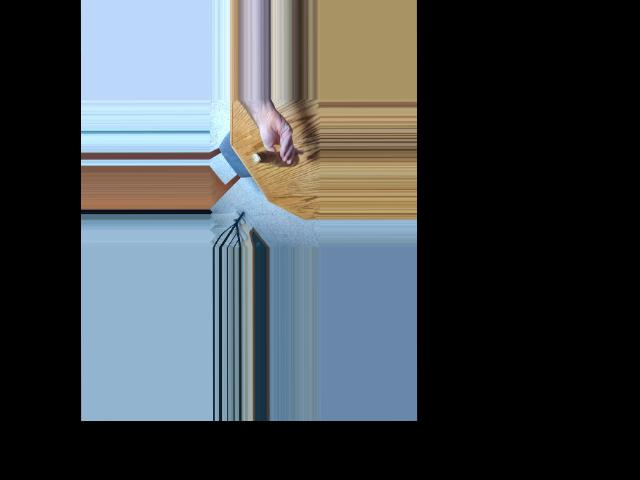sweet_potato: (255, 147, 295, 169)
